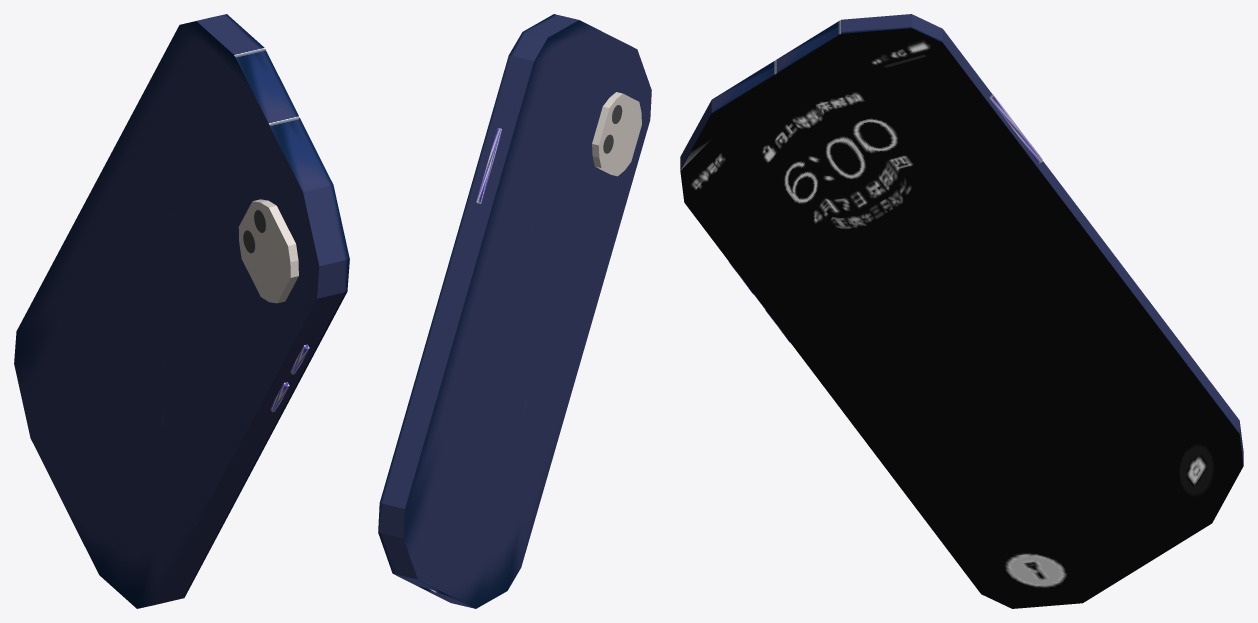
The model's file is 電筒功能.fbx.
The picture shows the model from 3 angles, left to right: view 1: azimuth 30°, elevation 25°; view 2: azimuth 150°, elevation 25°; view 3: azimuth 270°, elevation 25°; orthographic projection. The views are drawn at different scales.
Visible parts, largest first — view 1: 手機; view 2: 手機; view 3: 手機.
Boxes of the visible parts, box(x1,y1,x2,y2) form: 手機: box(14, 14, 349, 608); 手機: box(378, 14, 651, 608); 手機: box(680, 14, 1243, 608).
Size of the model in its own units: 2.61 by 38.05 by 33.3.
3 materials, 1 textured.
